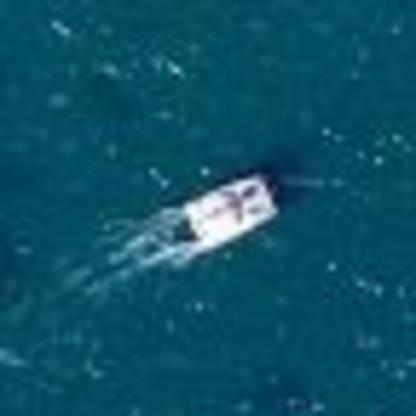ship: (166, 159, 293, 262)
